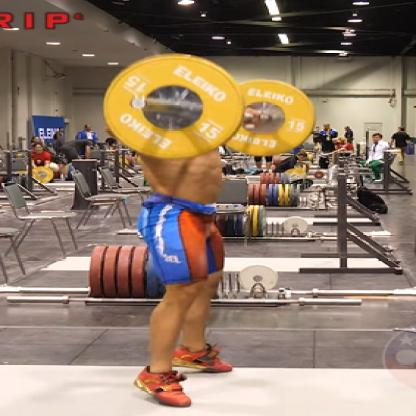Barbell: (104, 50, 248, 159)
